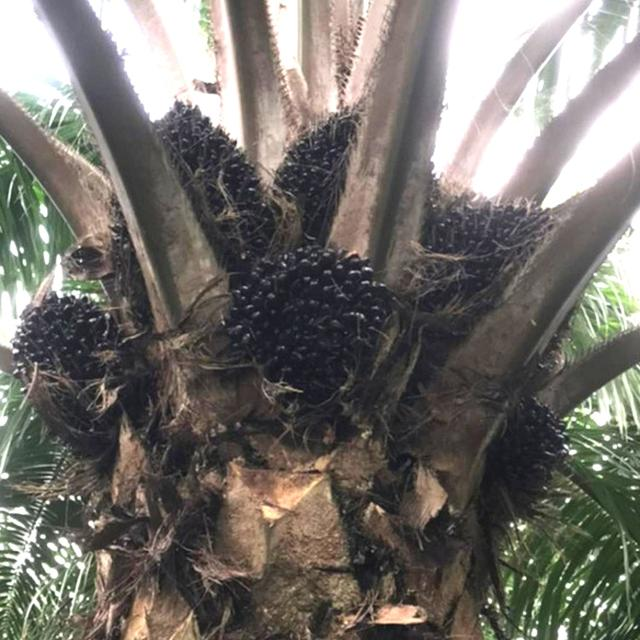almost: (104, 100, 280, 310), (274, 86, 445, 257), (222, 245, 394, 404), (428, 193, 582, 354), (12, 288, 148, 450), (484, 393, 574, 527)
